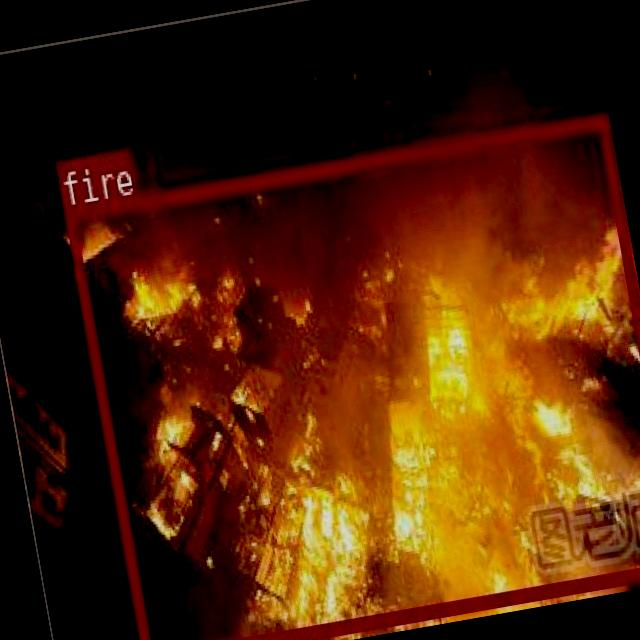fire: (63, 111, 640, 640)
